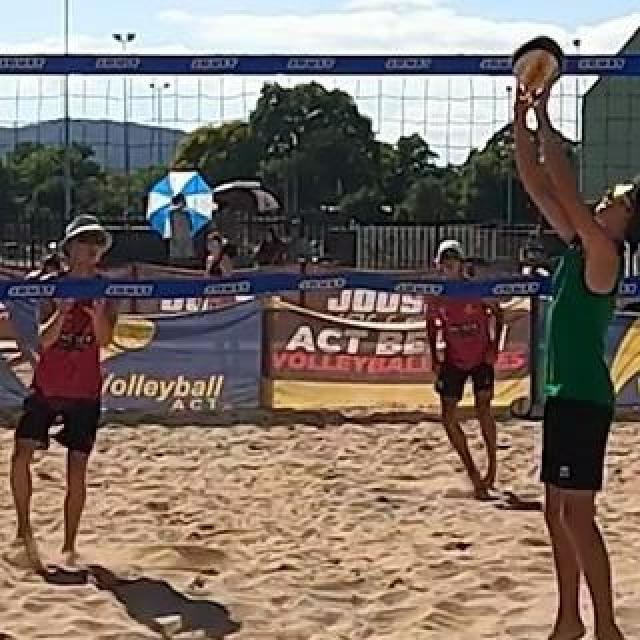volleyball: (512, 34, 562, 88), (509, 394, 533, 420)
